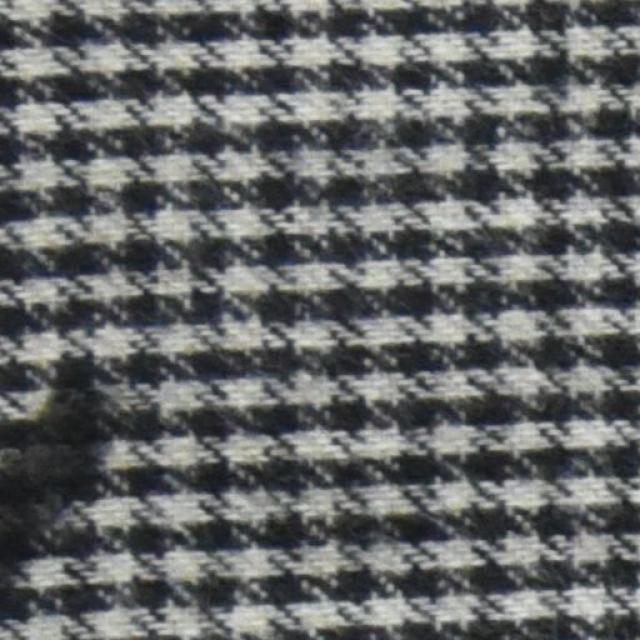Stain: (0, 344, 115, 639)
